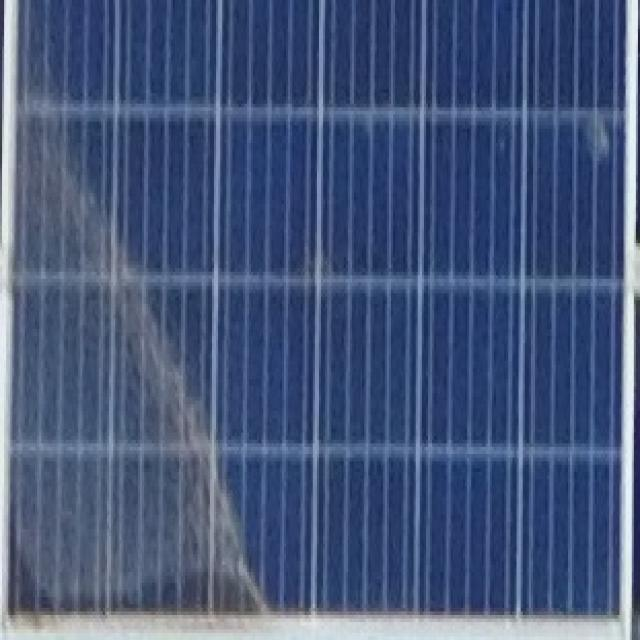Dust: (13, 74, 278, 616)
bird-droppings: (578, 82, 620, 167)
